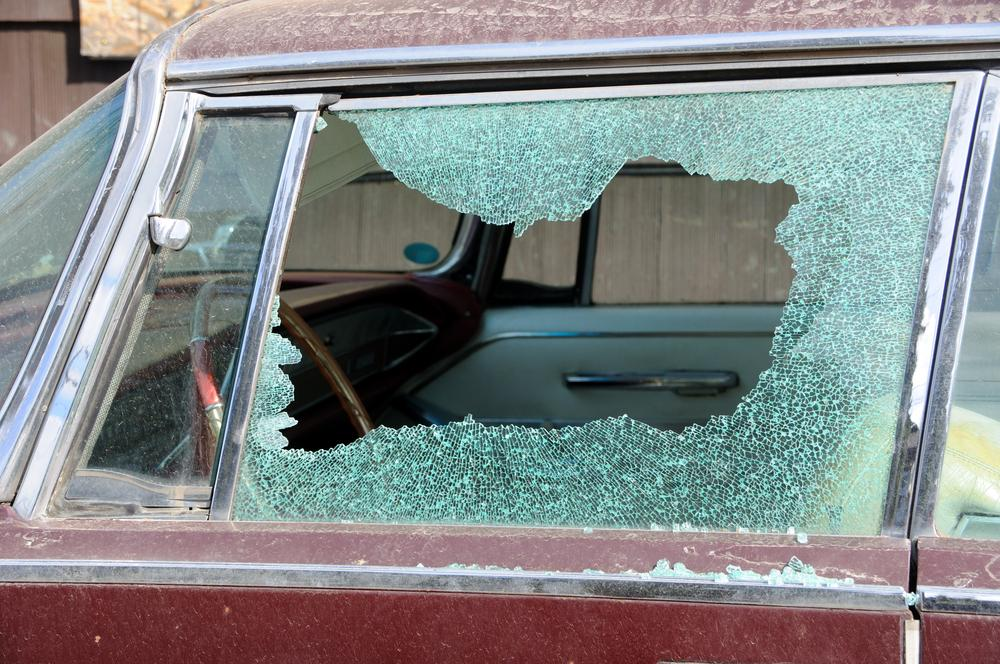glass shatter: (230, 82, 955, 534)
